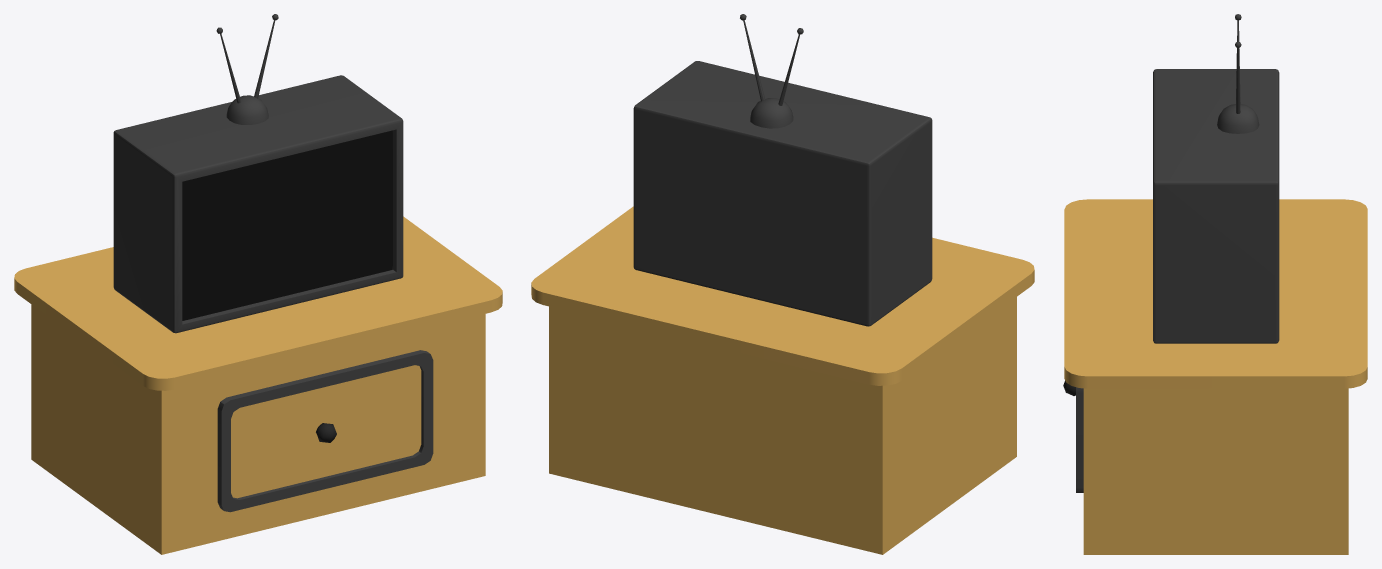
File: Tv_Lvl_1.fbx
3 views of the same model, side by side, from view 1: azimuth 30°, elevation 25°; view 2: azimuth 150°, elevation 25°; view 3: azimuth 270°, elevation 25° (orthographic). The views are drawn at different scales.
Visible parts, largest first — view 1: Table_M, Tv_Lvl_M1; view 2: Table_M, Tv_Lvl_M1; view 3: Table_M, Tv_Lvl_M1.
Part boxes in pixels (x1,y1,x2,y2): Table_M: [14, 216, 502, 554]; Tv_Lvl_M1: [113, 14, 403, 333]; Table_M: [531, 206, 1034, 554]; Tv_Lvl_M1: [633, 14, 932, 326]; Table_M: [1063, 199, 1367, 554]; Tv_Lvl_M1: [1153, 14, 1279, 343].
Bounding box in the file's own units: 2 × 2.35 × 1.45.
Materials: 1 (1 with a texture image).
